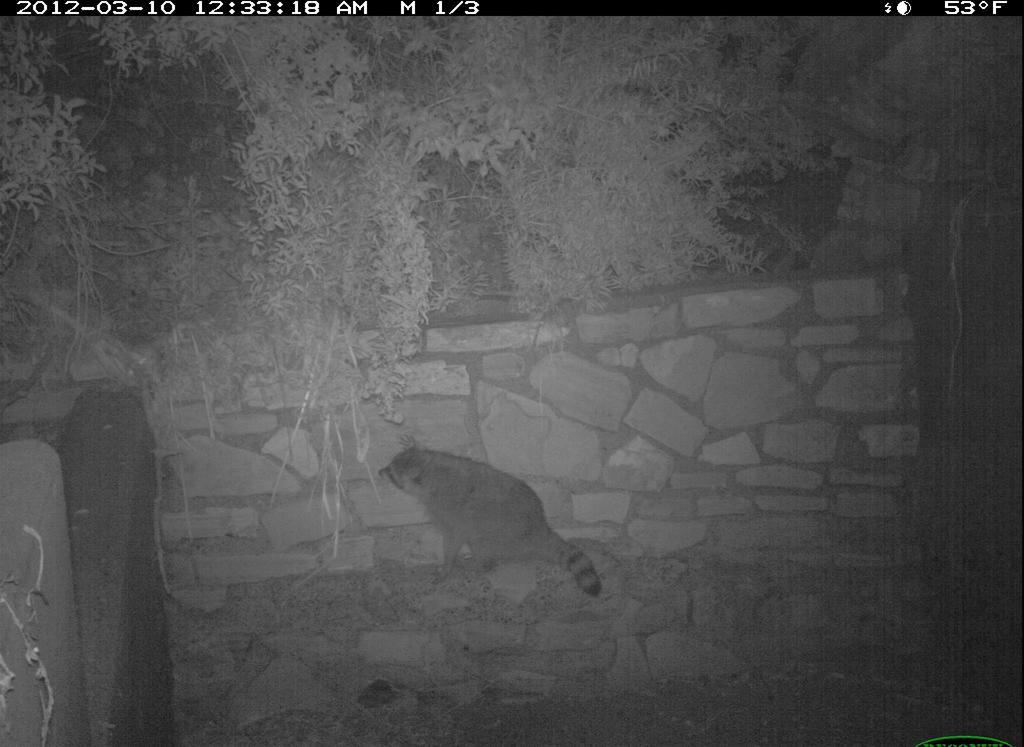raccoon: (372, 442, 609, 606)
